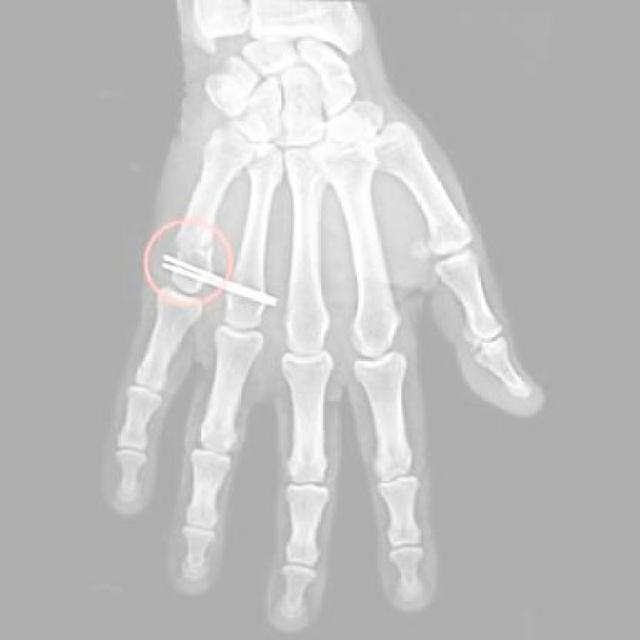Fracture: (157, 240, 213, 294)
